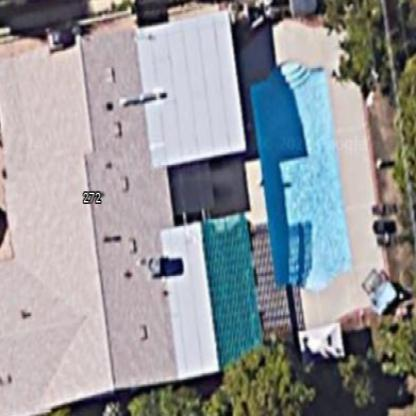pool: (245, 53, 359, 301)
